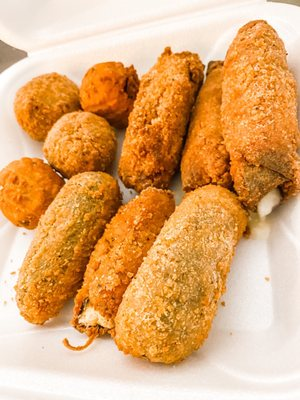salad: (118, 47, 204, 194), (42, 111, 117, 179), (14, 72, 82, 142), (0, 156, 64, 230), (78, 61, 140, 129)
